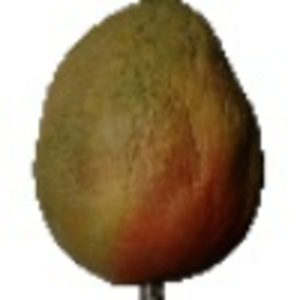mamão: (28, 2, 266, 285)
